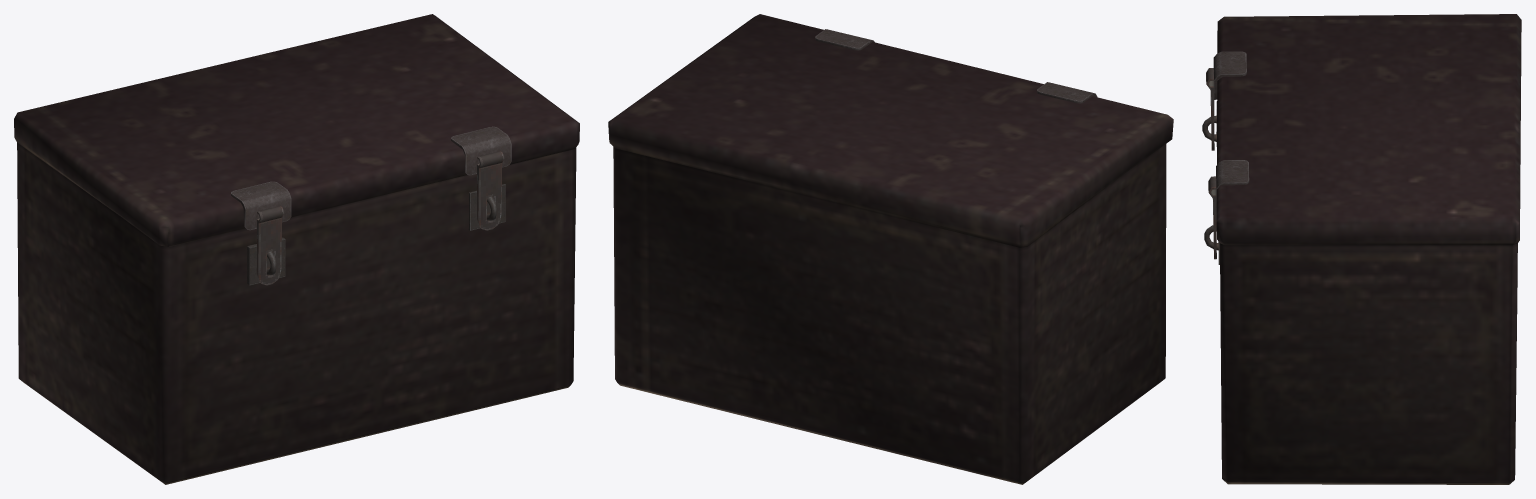
The model's file is Locked Box.fbx.
The picture shows the model from 3 angles, left to right: view 1: azimuth 30°, elevation 25°; view 2: azimuth 150°, elevation 25°; view 3: azimuth 270°, elevation 25°; orthographic projection.
Visible parts, largest first — view 1: BOx, BOx Lid, Box Lock; view 2: BOx, BOx Lid; view 3: BOx, BOx Lid, Box Lock.
Boxes of the visible parts, x1,y1,x2,y2 form: BOx: [17, 142, 576, 484]; BOx Lid: [14, 14, 579, 246]; Box Lock: [256, 151, 504, 285]; BOx: [613, 144, 1166, 484]; BOx Lid: [608, 14, 1173, 247]; BOx: [1202, 101, 1517, 484]; BOx Lid: [1213, 14, 1521, 245]; Box Lock: [1206, 68, 1216, 259].
Bounding box in the file's own units: 283 × 173 × 185.
Materials: 4 (4 with a texture image).
